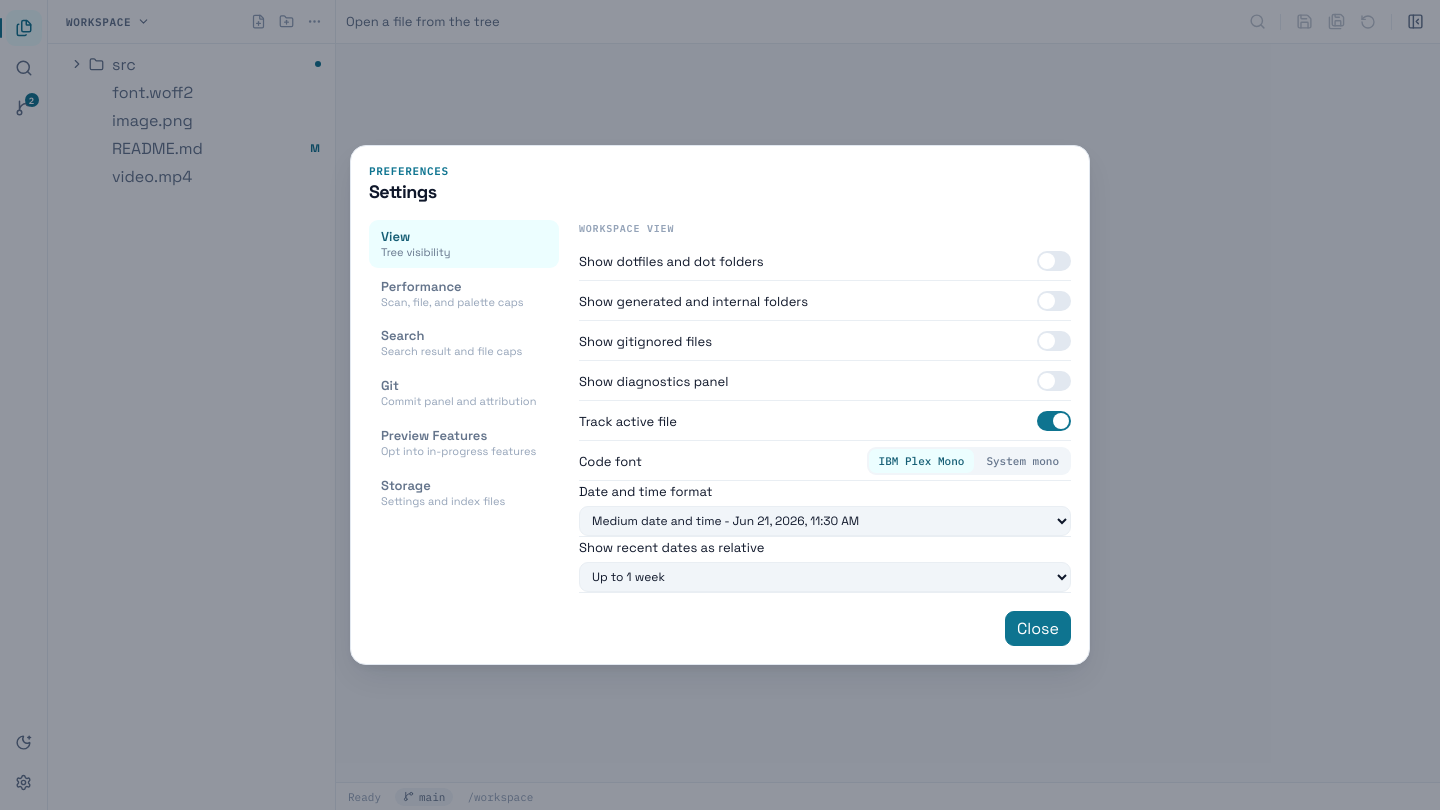
Test: App shell interactions › shows OS storage paths from Settings
Expected: the list item "README.md" is shown, [64,134,327,162]
Click the tab "Storage Settings and index files".
click(464, 492)  # box [369,468,559,516]
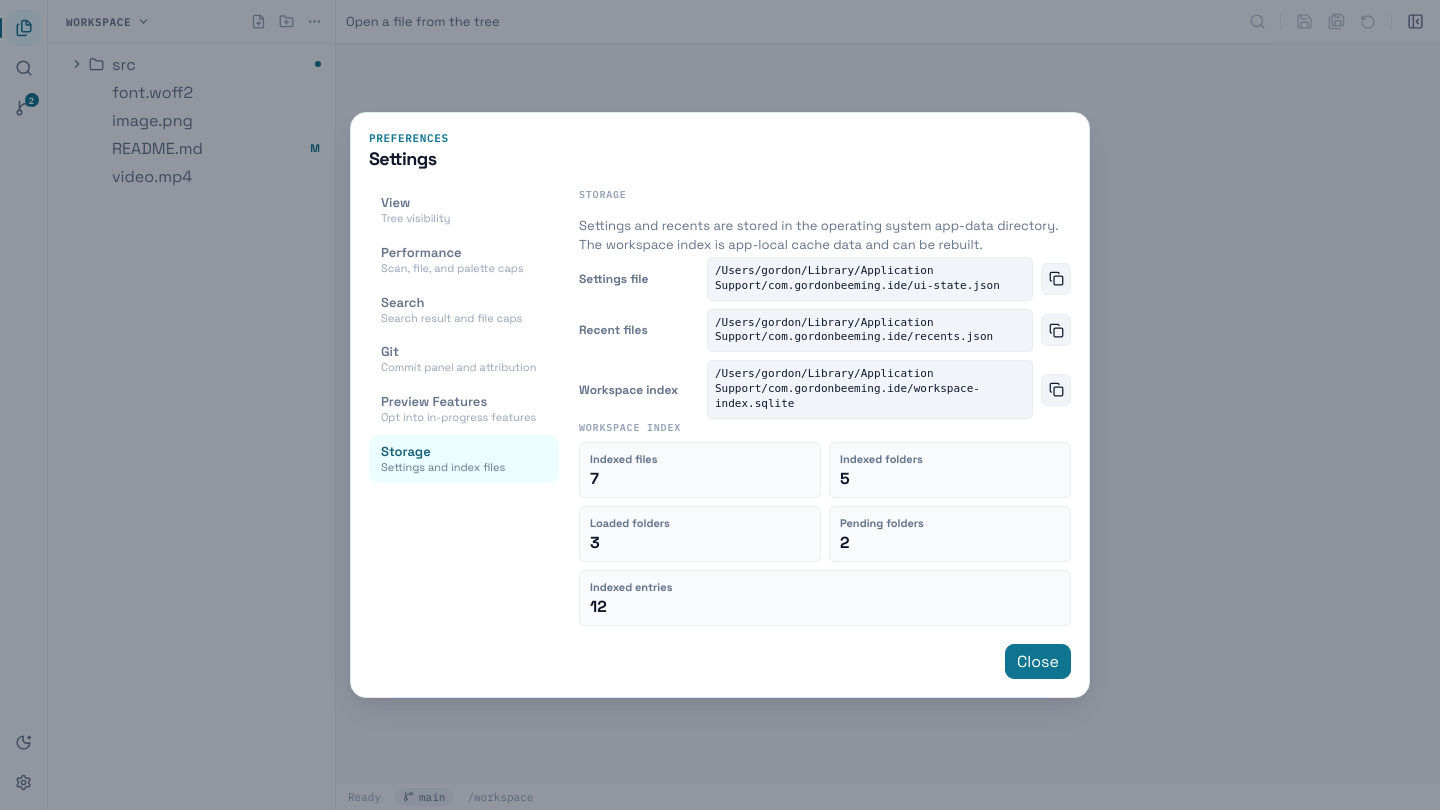
Now the text "Settings file" is shown, box [579,271,648,287]
Now the text "/Users/gordon/Library/Application Support/com.gordonbeeming.ide/ui-state.json" is shown, box [707,257,1033,301]
Now the text "/Users/gordon/Library/Application Support/com.gordonbeeming.ide/recents.json" is shown, box [707,308,1033,352]
